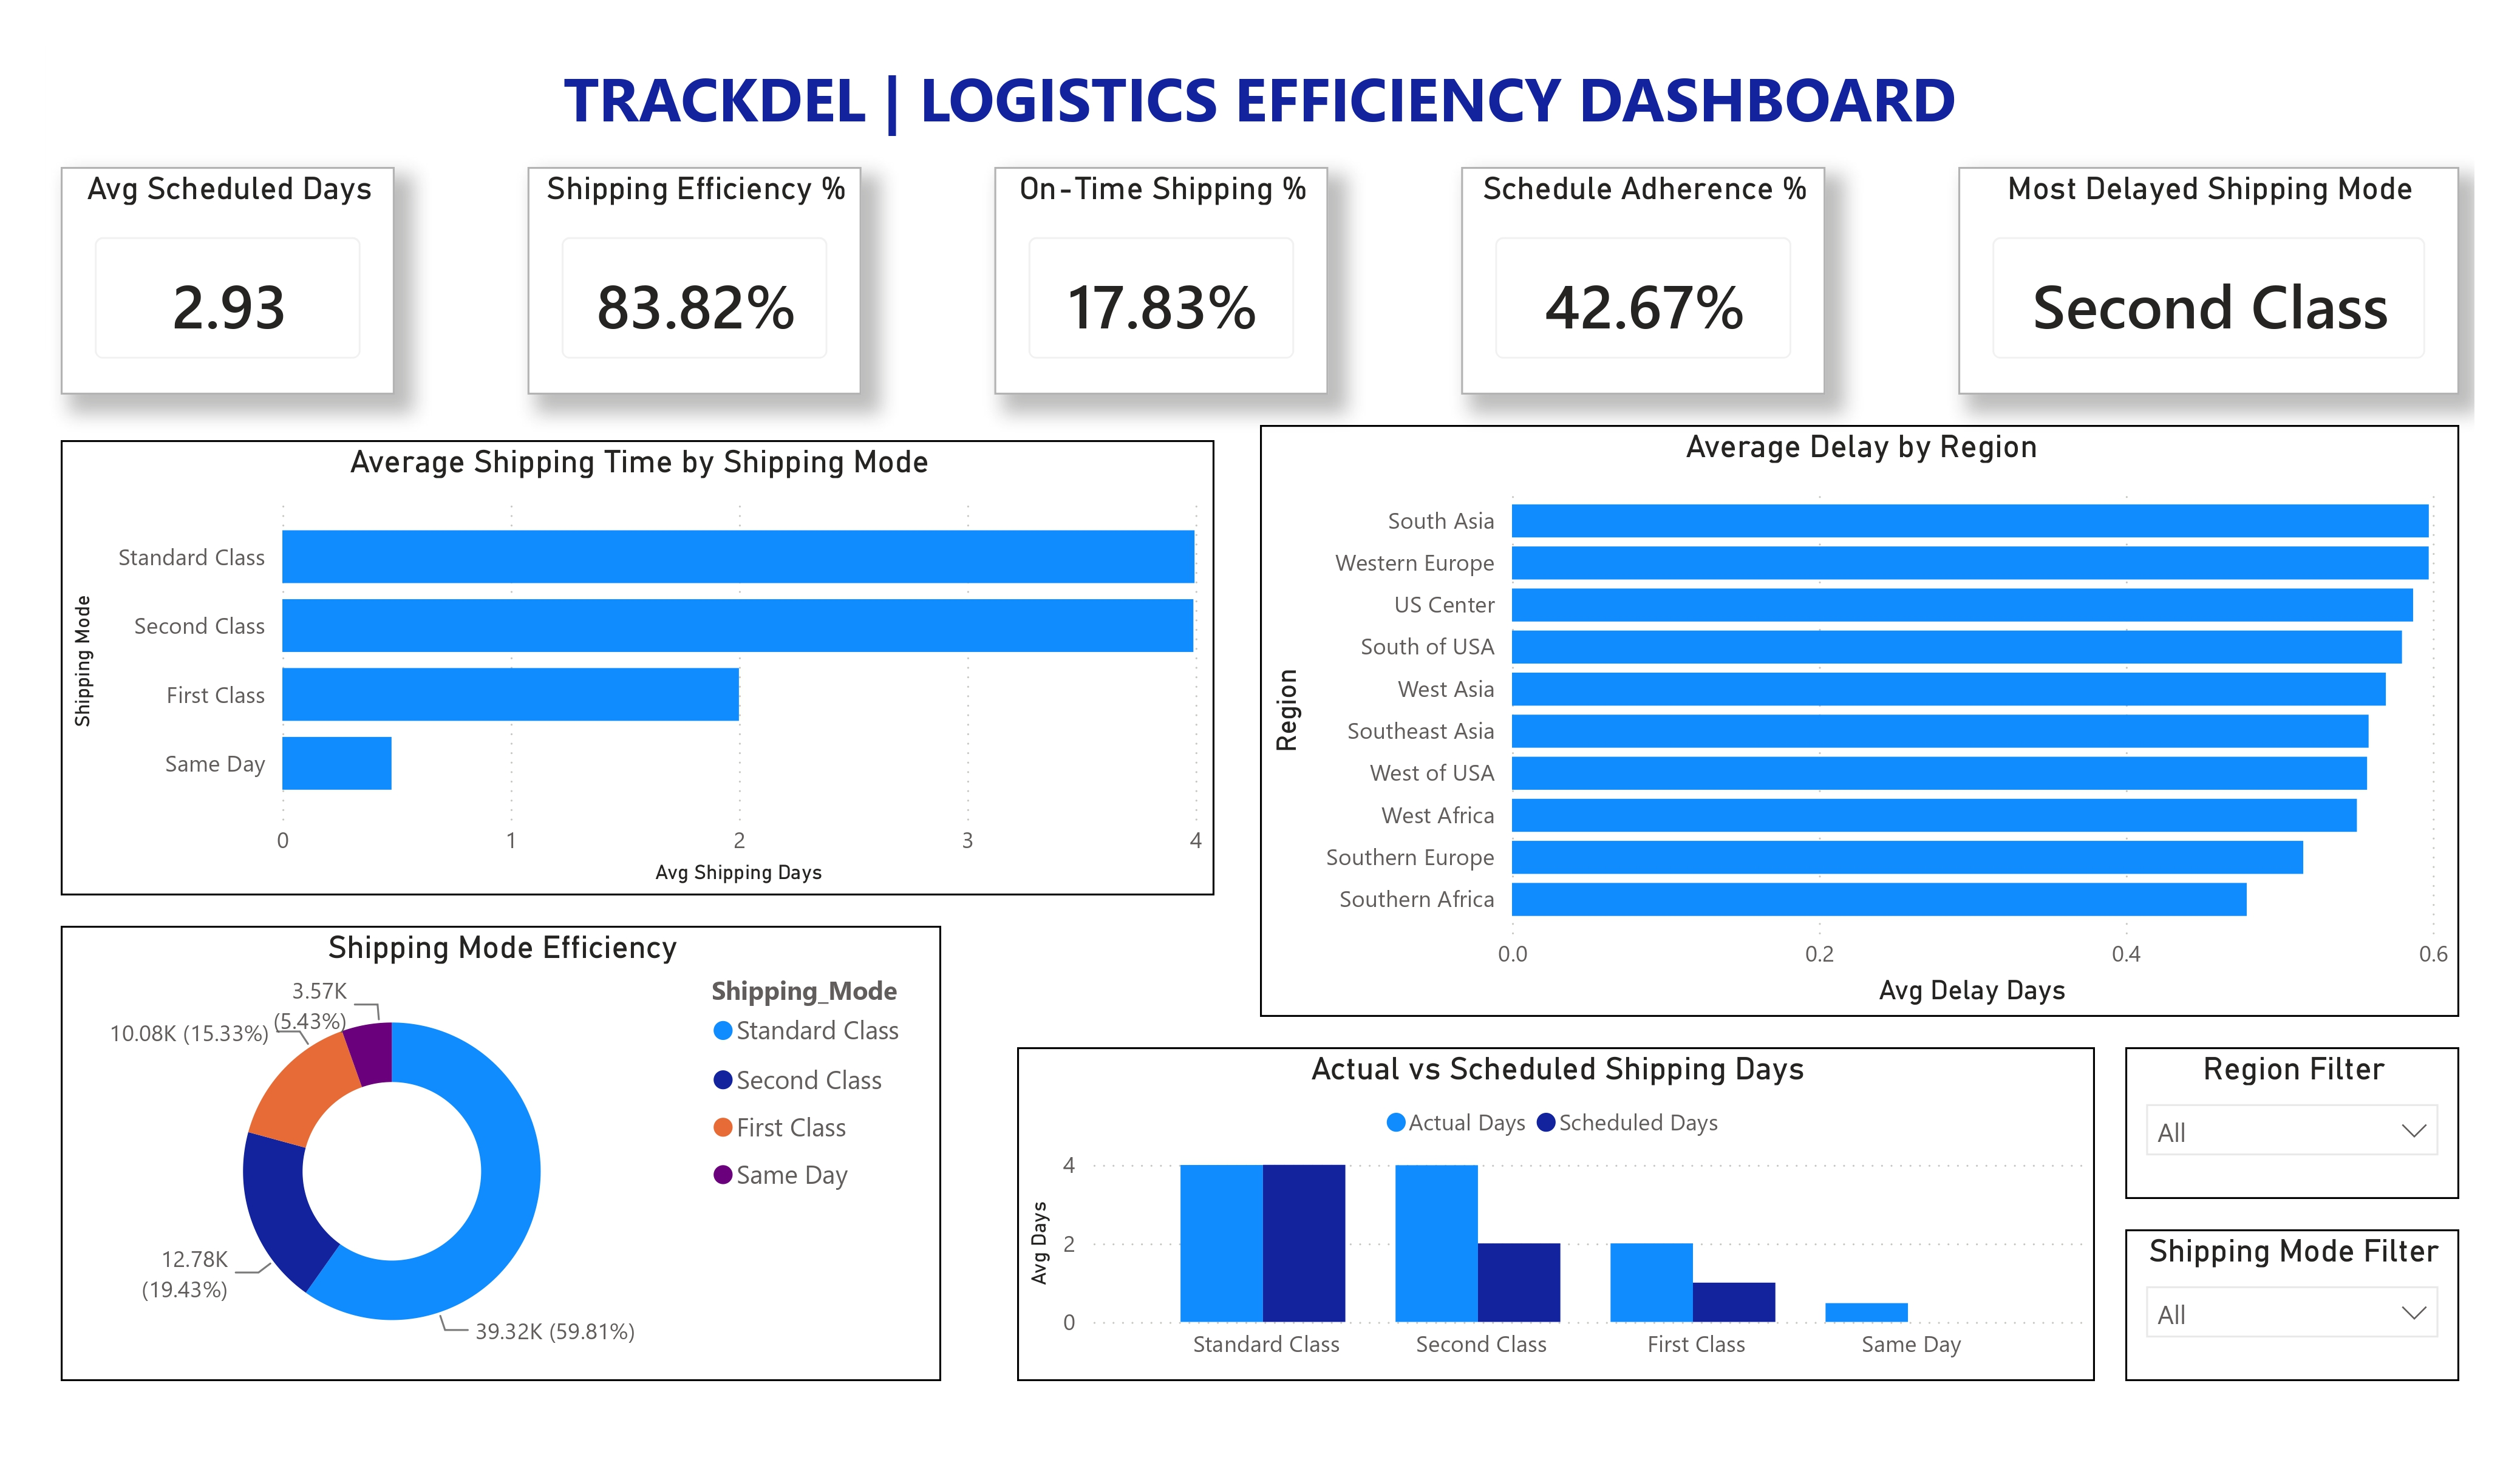

What the dashboard file says about the page in this screenshot:
{"tool":"powerbi","page":{"name":"Page 4","canvas":[1280,720],"ordinal":3},"visuals":[{"type":"textbox","box":[0,0,1280,64],"z":0},{"type":"cardVisual","title":"Avg Scheduled Days","fields":{"Data":["trackdel trackdel_data.Avg Scheduled Days"]},"box":[8,64,176,120],"z":1000},{"type":"slicer","title":"Region Filter","fields":{"Values":["trackdel trackdel_data.Order_Region"]},"box":[1096,528,176,80],"z":2000},{"type":"slicer","title":"Shipping Mode Filter","fields":{"Values":["trackdel trackdel_data.Shipping_Mode"]},"box":[1096,624,176,80],"z":3000},{"type":"clusteredBarChart","title":"Average Shipping Time by Shipping Mode","fields":{"Category":["trackdel trackdel_data.Shipping_Mode"],"Y":["Avg(trackdel trackdel_data.Days_for_shipping_real)"]},"box":[8,208,608,240],"z":4000},{"type":"clusteredBarChart","title":"Average Delay by Region","fields":{"Category":["trackdel trackdel_data.Order_Region"],"Y":["Avg(trackdel trackdel_data.Delay_Days)"]},"box":[640,200,632,312],"z":5000},{"type":"donutChart","title":"Shipping Mode Efficiency","fields":{"Category":["trackdel trackdel_data.Shipping_Mode"],"Y":["Count(trackdel trackdel_data.Order_Id)"]},"box":[8,464,464,240],"z":6000},{"type":"clusteredColumnChart","title":"Actual vs Scheduled Shipping Days","fields":{"Category":["trackdel trackdel_data.Shipping_Mode"],"Y":["Avg(trackdel trackdel_data.Days_for_shipping_real)","Avg(trackdel trackdel_data.Days_for_shipment_scheduled)"]},"box":[512,528,568,176],"z":7000},{"type":"cardVisual","title":"Shipping Efficiency %","fields":{"Data":["trackdel trackdel_data.Shipping Efficiency %"]},"box":[254,64,176,120],"z":8000},{"type":"cardVisual","title":"On-Time Shipping %","fields":{"Data":["trackdel trackdel_data.Shipping On Time %"]},"box":[500,64,176,120],"z":9000},{"type":"cardVisual","title":"Schedule Adherence %","fields":{"Data":["trackdel trackdel_data.Schedule Adherence %"]},"box":[746,64,192,120],"z":10000},{"type":"cardVisual","title":"Most Delayed Shipping Mode","fields":{"Data":["trackdel trackdel_data.Most Delayed Shipping Mode"]},"box":[1008,64,264,120],"z":11000}]}

Visuals, with their boxes on the page's 1280x720 design canvas (x1, y1, x2, y2). These are canvas units, not pixel positions in the 2520x1457 screenshot, which may show the page scaled, cropped or inside an application window:
textbox: [x1=0, y1=0, x2=1280, y2=64]
"Avg Scheduled Days" cardVisual: [x1=8, y1=64, x2=184, y2=184]
"Region Filter" slicer: [x1=1096, y1=528, x2=1272, y2=608]
"Shipping Mode Filter" slicer: [x1=1096, y1=624, x2=1272, y2=704]
"Average Shipping Time by Shipping Mode" clusteredBarChart: [x1=8, y1=208, x2=616, y2=448]
"Average Delay by Region" clusteredBarChart: [x1=640, y1=200, x2=1272, y2=512]
"Shipping Mode Efficiency" donutChart: [x1=8, y1=464, x2=472, y2=704]
"Actual vs Scheduled Shipping Days" clusteredColumnChart: [x1=512, y1=528, x2=1080, y2=704]
"Shipping Efficiency %" cardVisual: [x1=254, y1=64, x2=430, y2=184]
"On-Time Shipping %" cardVisual: [x1=500, y1=64, x2=676, y2=184]
"Schedule Adherence %" cardVisual: [x1=746, y1=64, x2=938, y2=184]
"Most Delayed Shipping Mode" cardVisual: [x1=1008, y1=64, x2=1272, y2=184]
